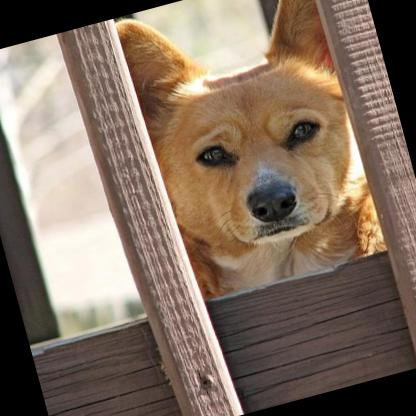Pembroke: (98, 0, 400, 309)
